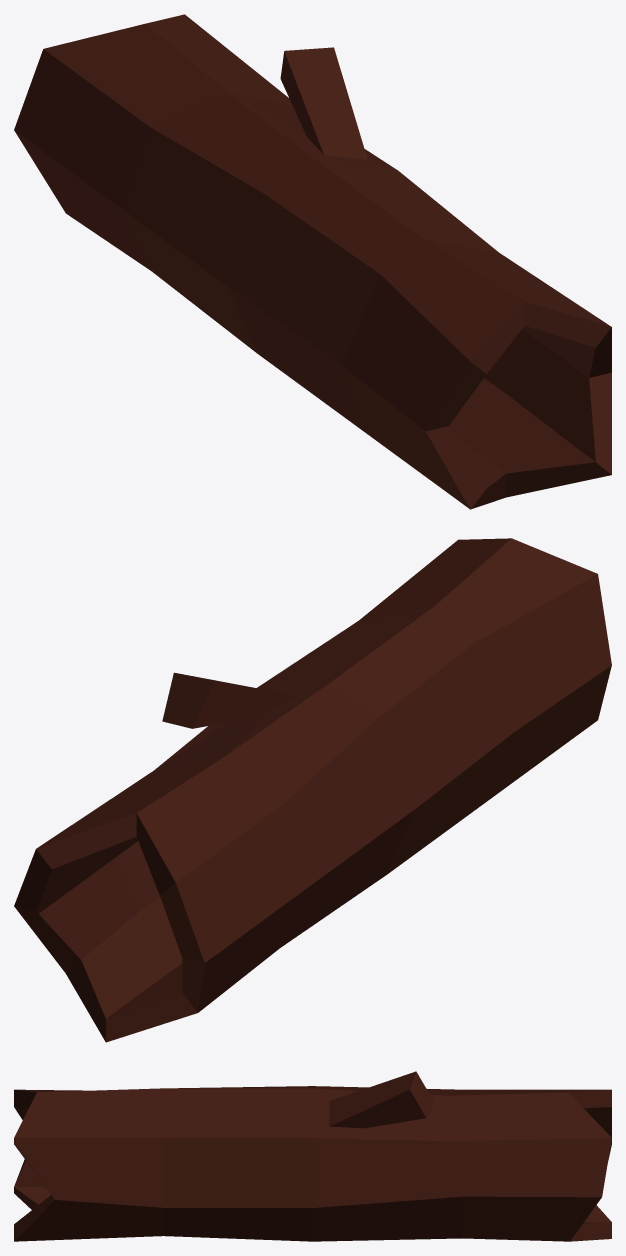
File: log_3b.fbx
3 renders of one model, top to bottom at view 1: azimuth 30°, elevation 25°; view 2: azimuth 150°, elevation 25°; view 3: azimuth 270°, elevation 25°, orthographic. The views are drawn at different scales.
Visible parts, largest first — view 1: log_3b; view 2: log_3b; view 3: log_3b.
Part boxes in pixels (left/top/right/bottom): log_3b: left=14, top=14, right=611, bottom=509; log_3b: left=14, top=538, right=611, bottom=1042; log_3b: left=14, top=1071, right=611, bottom=1241.
Bounding box in the file's own units: 53.77 × 64.6 × 197.
